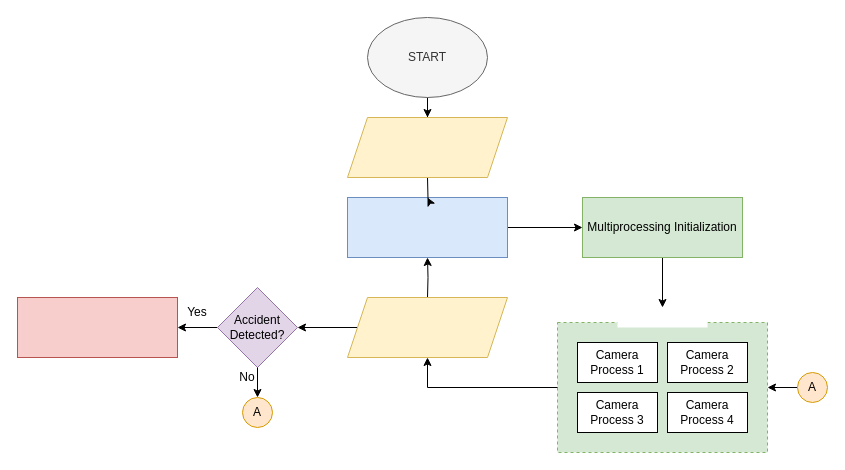
Some shapes in this 845 by 470 pixel diagram are drawn without their labels. The shapes that lost their labels are listed below. From the top down, each one's centre as x and y in pixels, then its label:
(x=427, y=147): Multiple Footage
(x=427, y=227): Main Program Loop
(x=97, y=327): Alarm and Alert Notification
(x=427, y=327): Detection Results
(x=662, y=317): Multiprocessing
